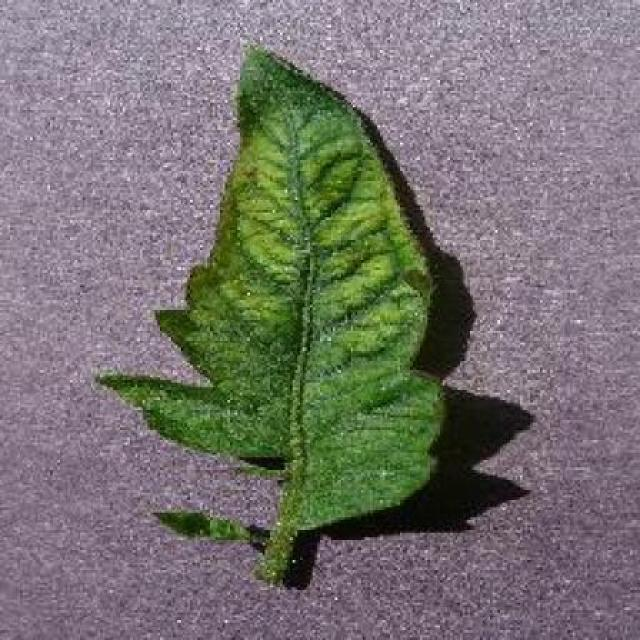Mosaic Virus: (95, 50, 454, 529)
